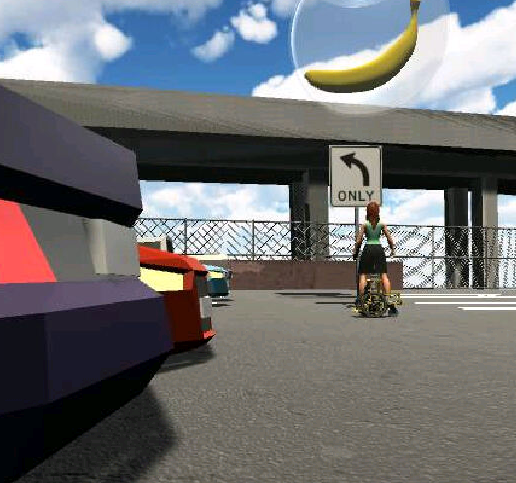arrow_left: (341, 150, 372, 186)
